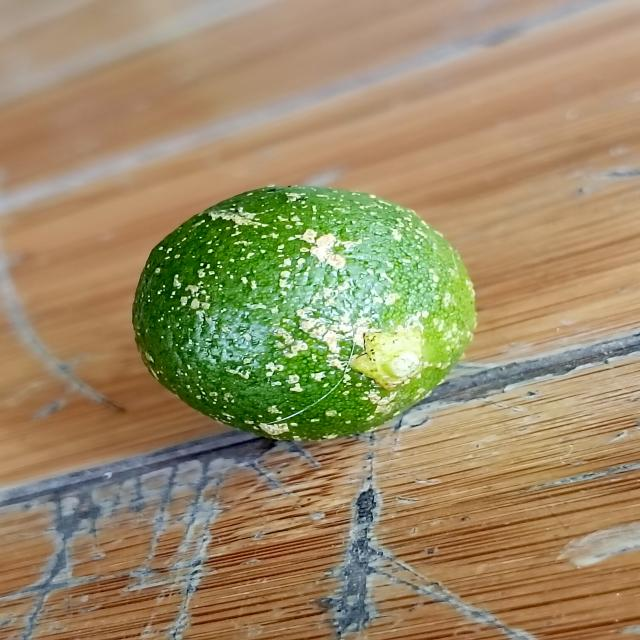scab: (116, 166, 486, 446)
